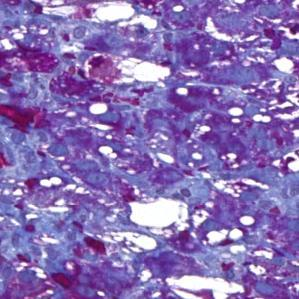ballooning: (114, 56, 173, 90)
